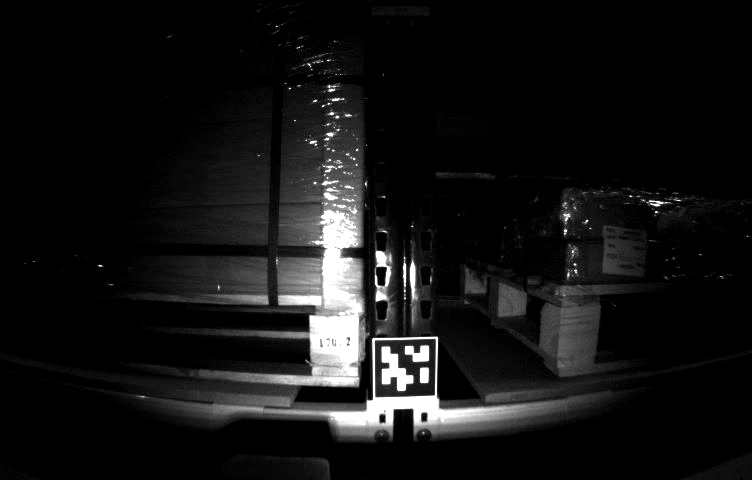True Barcode: (600, 225, 651, 279)
